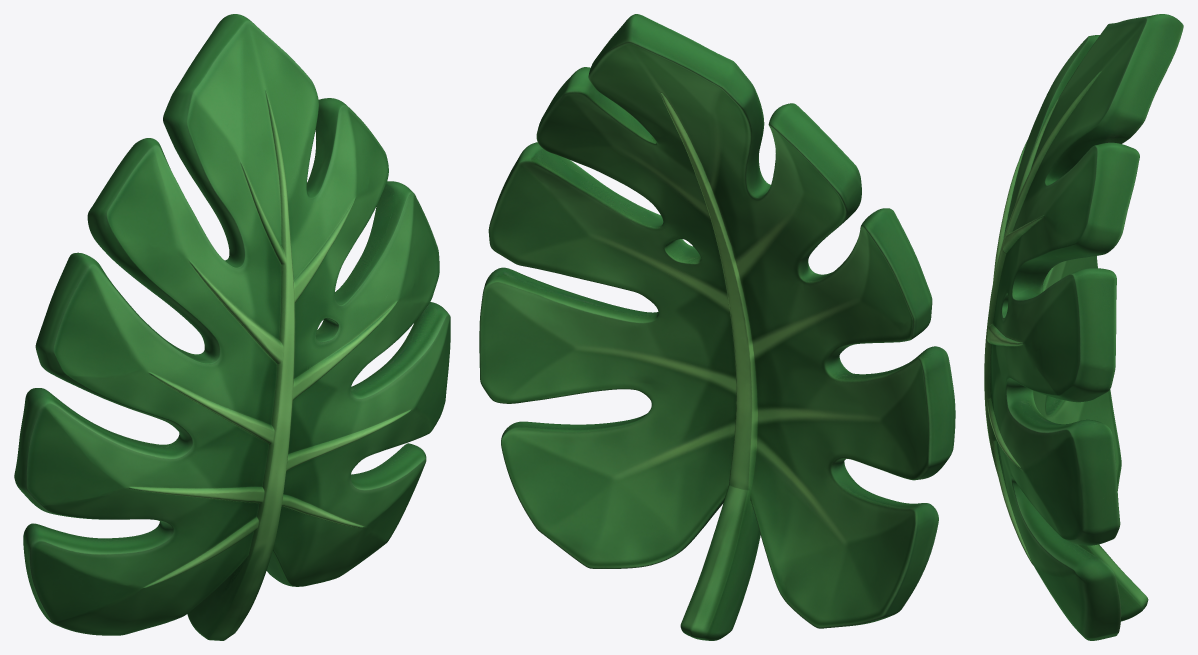
Rendered from leaf.glb.
3 renders of one model, left to right at view 1: azimuth 30°, elevation 25°; view 2: azimuth 150°, elevation 25°; view 3: azimuth 270°, elevation 25°, orthographic. The views are drawn at different scales.
Size of the model in its own units: 1.46 by 1.9 by 0.5453.
1 material, 1 textured.
